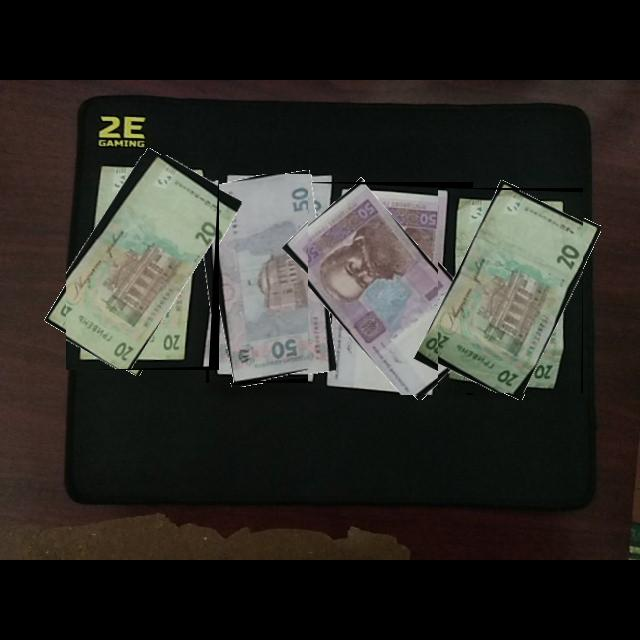20uah: (66, 155, 220, 371), (438, 188, 584, 394)
50uah: (308, 182, 474, 396), (206, 174, 336, 384)
